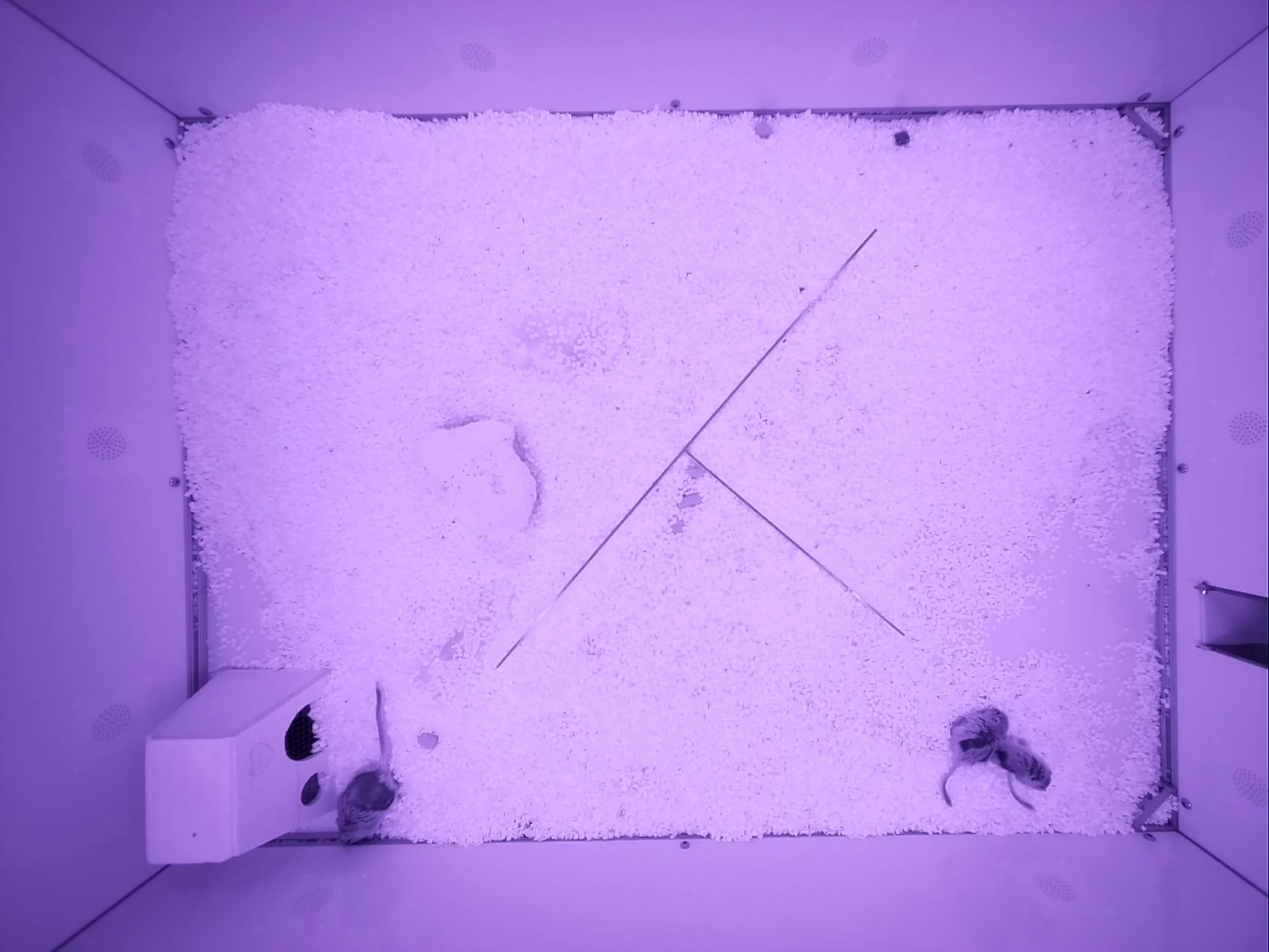adult_back: (337, 684, 397, 843), (941, 707, 1008, 804), (994, 735, 1051, 809)
